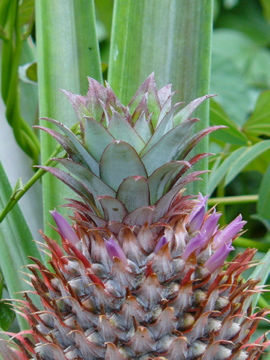pineapple: (0, 69, 269, 359)
